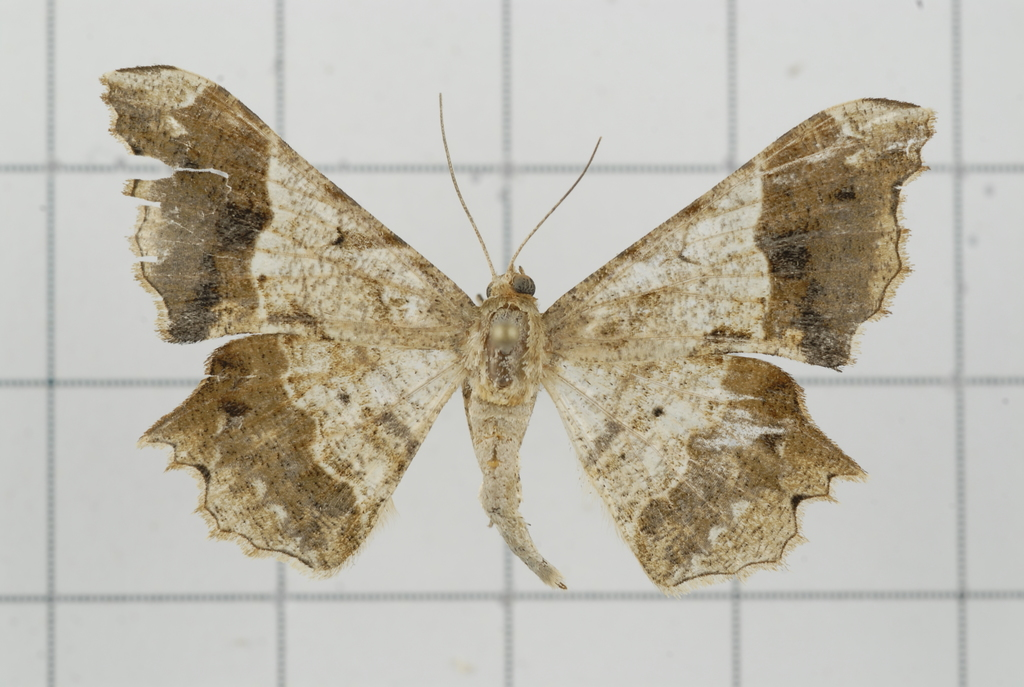Butterfly: (102, 51, 945, 618)
